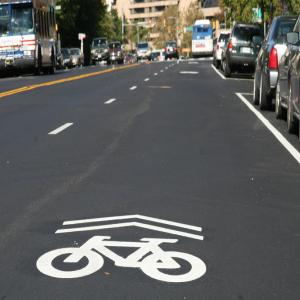Vehicle-registration-plate: (242, 47, 251, 55)
